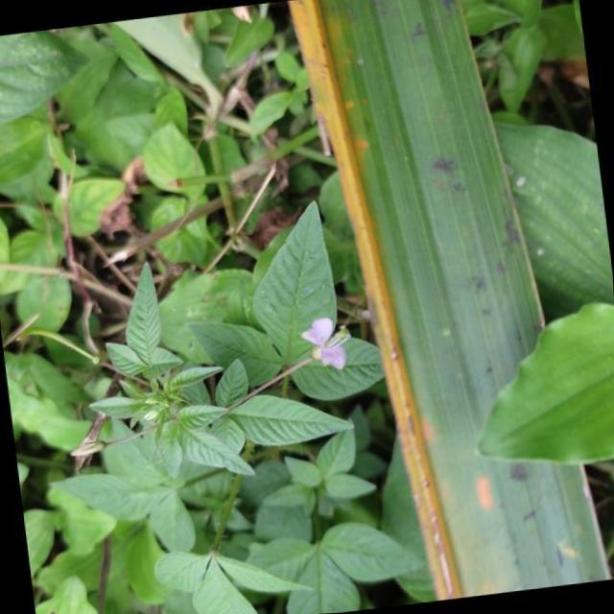Megnesium: (286, 0, 614, 604)
